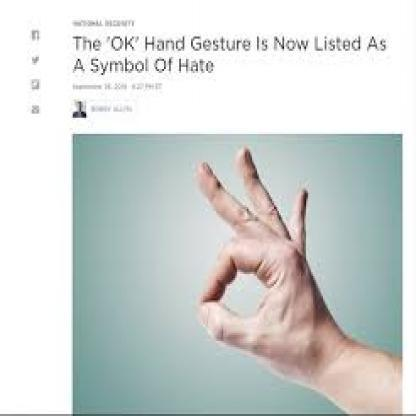ok: (191, 142, 322, 367)
